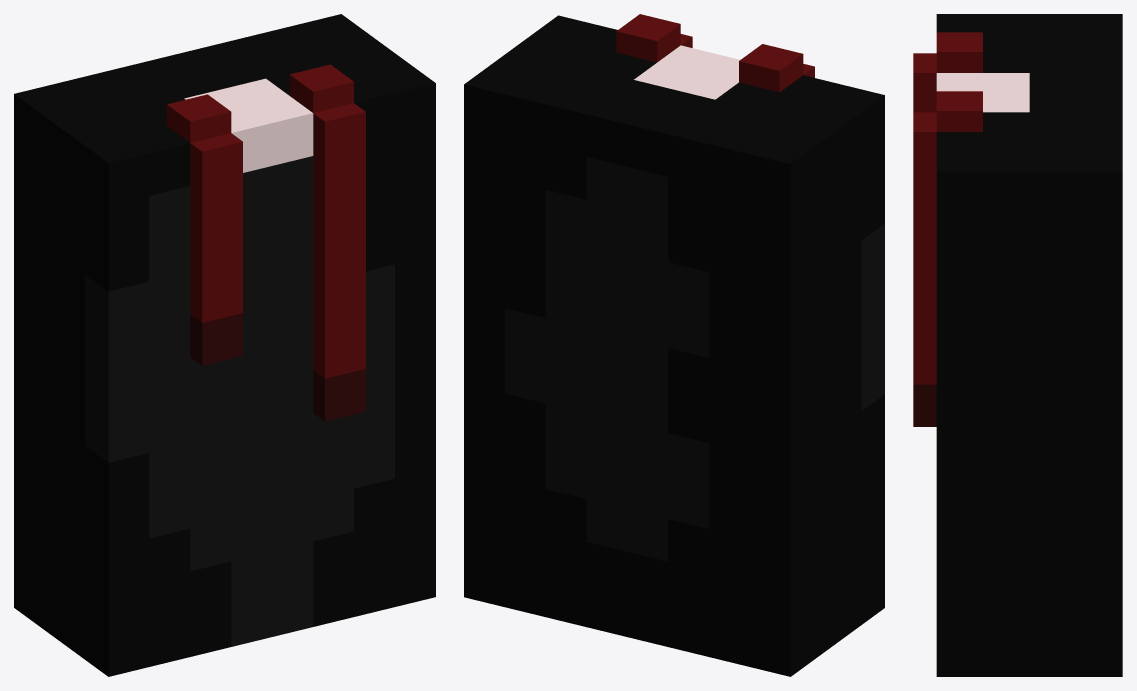
The model's file is playertorso.obj.
The picture shows the model from 3 angles, left to right: view 1: azimuth 30°, elevation 25°; view 2: azimuth 150°, elevation 25°; view 3: azimuth 270°, elevation 25°; orthographic projection.
Bounding box in the file's own units: 1.6 × 2.5 × 0.9.
Materials: 1 (1 with a texture image).
